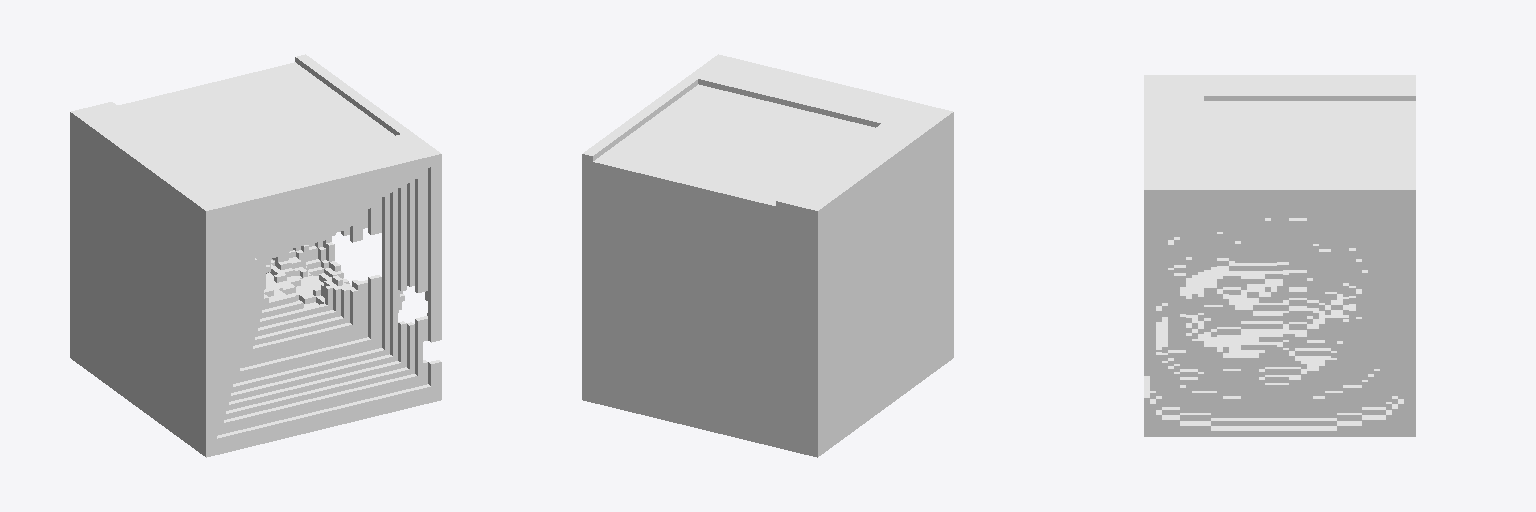
File: block.obj
3 renders of one model, left to right at view 1: azimuth 30°, elevation 25°; view 2: azimuth 150°, elevation 25°; view 3: azimuth 270°, elevation 25°, orthographic.
Size of the model in its own units: 45 by 45 by 45.